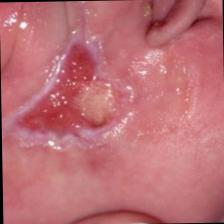pressure-wound: (0, 32, 139, 153)
